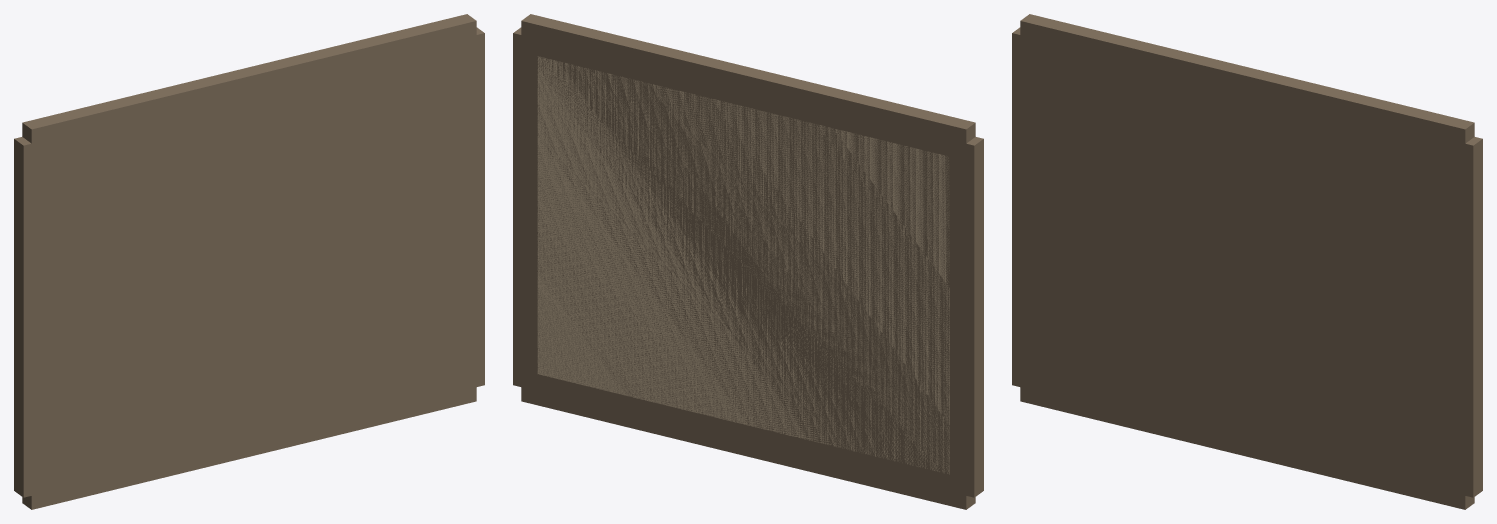
File: prop_noticeboard.fbx
3 views of the same model, side by side, from view 1: azimuth 30°, elevation 25°; view 2: azimuth 150°, elevation 25°; view 3: azimuth 330°, elevation 25° (orthographic).
Visible parts, largest first — view 1: BB_Frame, BB_Frame_T, BB_Frame_L, BB_Frame_B, BB_Frame_R; view 2: BB_Frame, BB_Cork, BB_Frame_T, BB_Frame_L, BB_Frame_B, BB_Frame_R; view 3: BB_Frame, BB_Frame_T, BB_Frame_R, BB_Frame_B, BB_Frame_L.
Boxes of the visible parts, <box> form: BB_Frame: <box>31,38,476,494</box>; BB_Frame_T: <box>22,14,476,146</box>; BB_Frame_L: <box>14,137,39,497</box>; BB_Frame_B: <box>22,387,476,509</box>; BB_Frame_R: <box>468,27,484,388</box>; BB_Frame: <box>521,35,966,492</box>; BB_Cork: <box>537,56,949,474</box>; BB_Frame_T: <box>521,14,975,143</box>; BB_Frame_L: <box>958,137,983,497</box>; BB_Frame_B: <box>521,384,975,509</box>; BB_Frame_R: <box>513,27,529,386</box>; BB_Frame: <box>1020,38,1465,495</box>; BB_Frame_T: <box>1020,14,1474,146</box>; BB_Frame_R: <box>1457,137,1482,497</box>; BB_Frame_B: <box>1020,387,1474,509</box>; BB_Frame_L: <box>1012,27,1028,388</box>.
Size of the model in its own units: 85 by 67 by 3.
